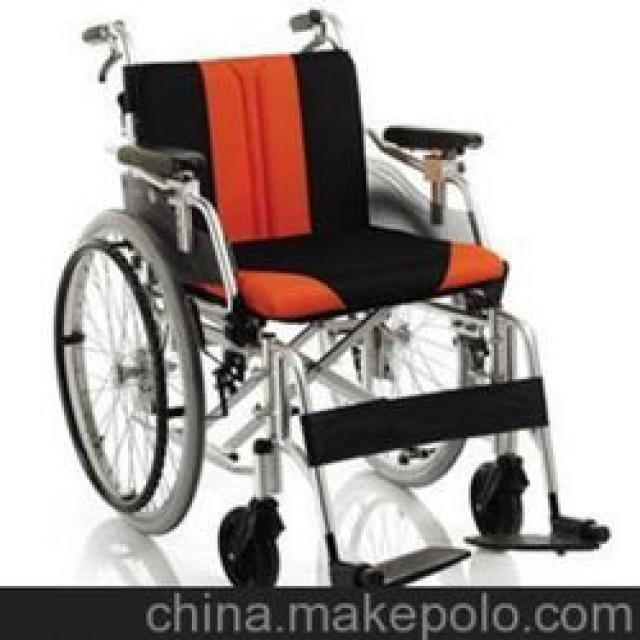wheelchair: (53, 0, 620, 586)
